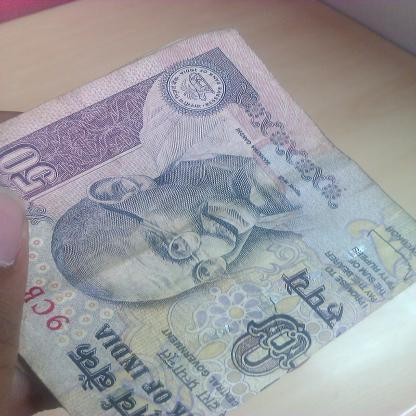Old50Front: (0, 28, 415, 415)
